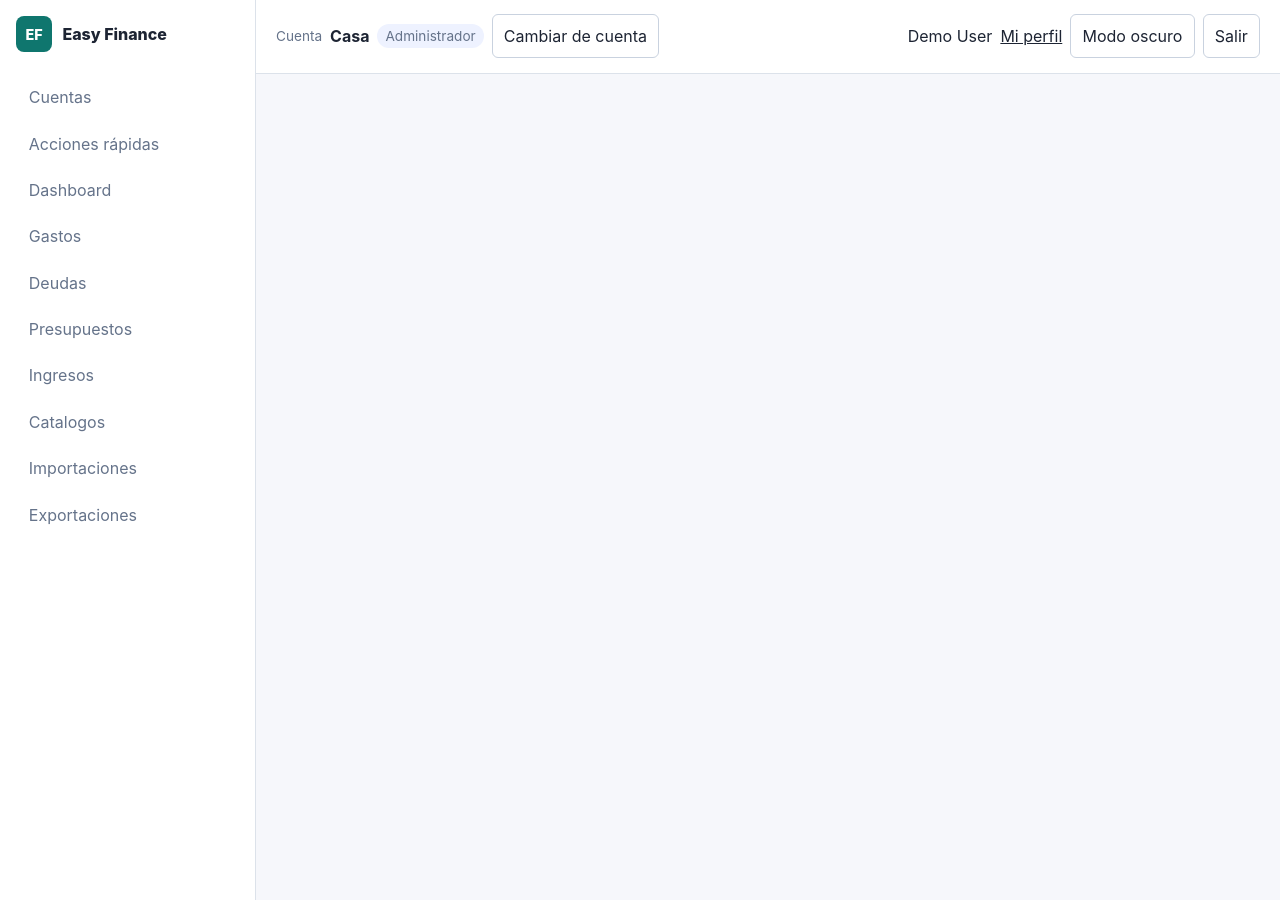
PrivateLayoutComponent › toggles the theme and updates the document attribute when clicking the button
Click the button "Modo oscuro" at (1132, 36), box [1070,14,1195,58]
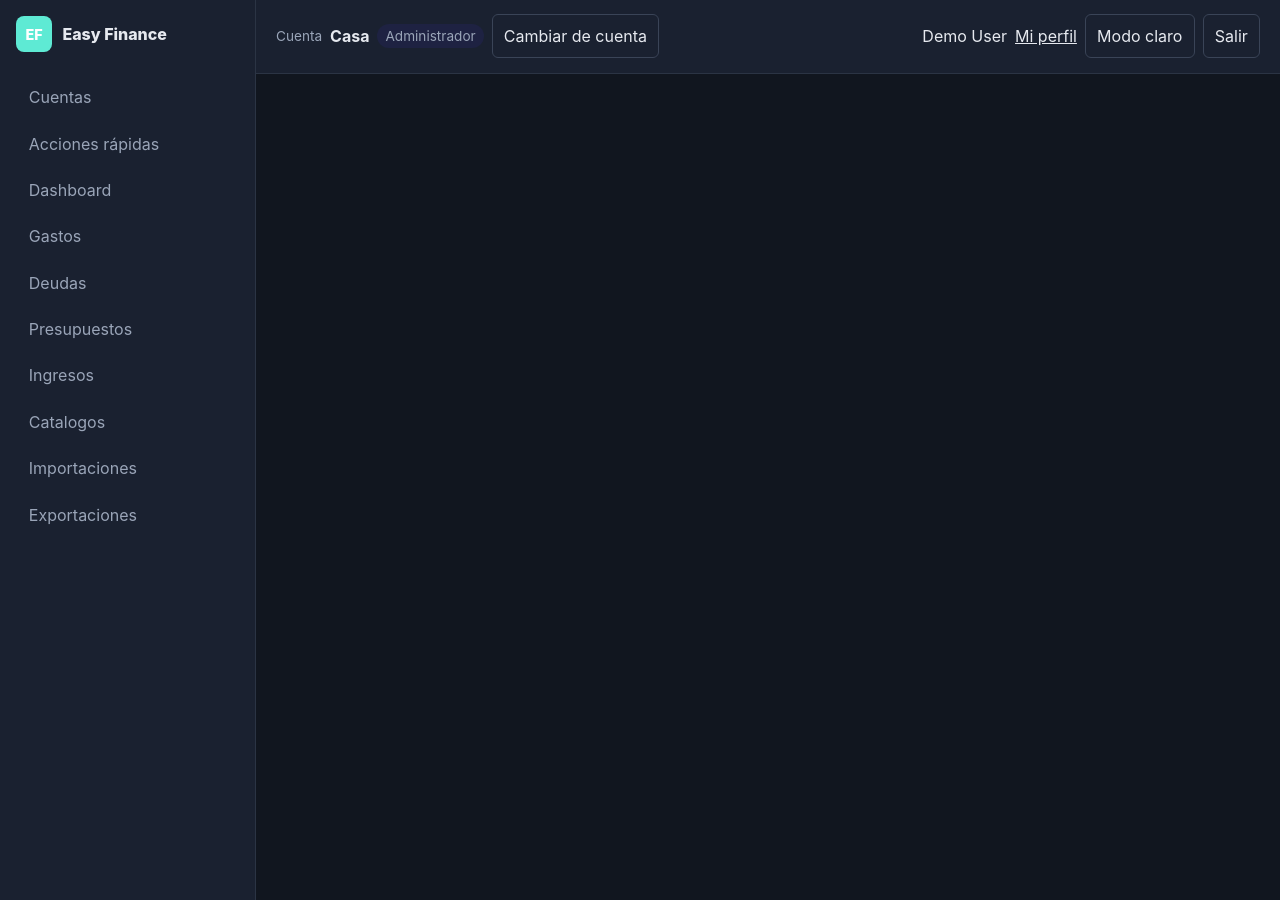
expect the button "Modo oscuro" no longer shows "Modo oscuro": met
